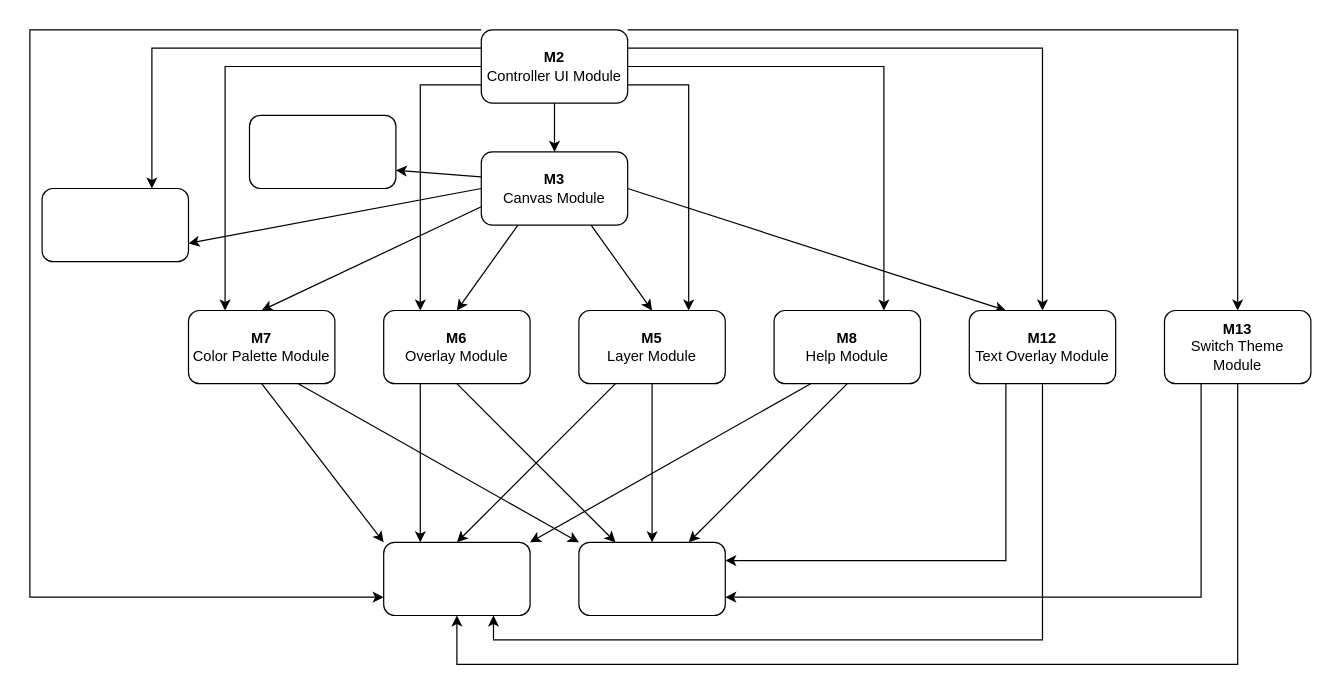
The diagram is 1332 pixels wide and 695 high, and some of its shapes have lost their labels. Each missing label, with the box of its shape:
M10 Widget Storage Module: (41, 187, 188, 262)
M11 Assets Module: (382, 541, 530, 615)
M4 Widget Module: (578, 541, 725, 615)
M9 Generate Shape Module: (248, 114, 396, 188)
